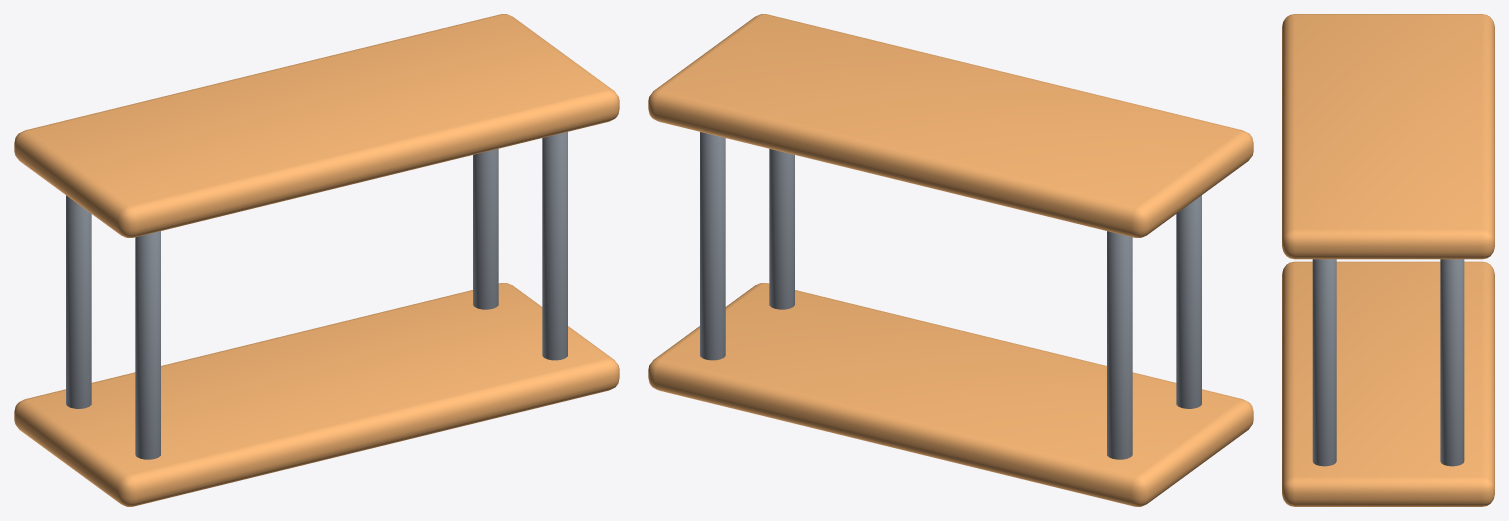
The model's file is estante_tubos_2_laranja.glb.
The picture shows the model from 3 angles, left to right: view 1: azimuth 30°, elevation 25°; view 2: azimuth 150°, elevation 25°; view 3: azimuth 270°, elevation 25°; orthographic projection. The views are drawn at different scales.
Parts seen in each view (by area): view 1: estante_tubos_2_laranja; view 2: estante_tubos_2_laranja; view 3: estante_tubos_2_laranja.
Part boxes in pixels (bbox=[...]): estante_tubos_2_laranja: bbox=[14, 14, 619, 506]; estante_tubos_2_laranja: bbox=[648, 14, 1253, 506]; estante_tubos_2_laranja: bbox=[1282, 14, 1494, 506].
Bounding box in the file's own units: 0.75 × 0.43 × 0.3.
1 material, 1 textured.
